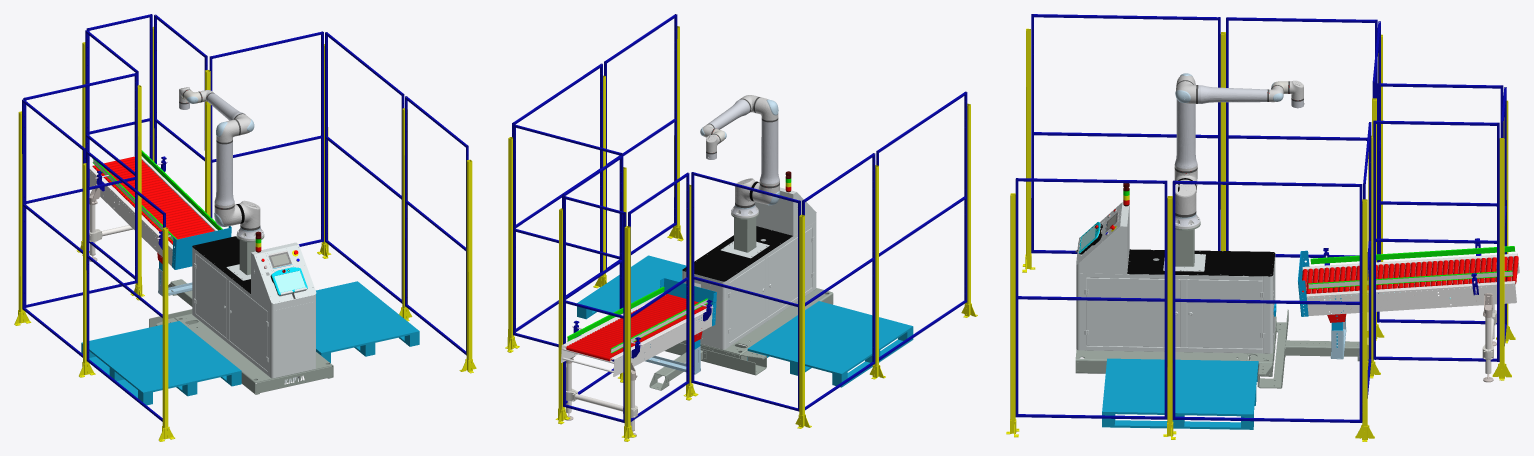
The model's file is 15-base-esteira-reta-gradil.glb.
The picture shows the model from 3 angles, left to right: view 1: azimuth 30°, elevation 25°; view 2: azimuth 150°, elevation 25°; view 3: azimuth 270°, elevation 25°; orthographic projection. The views are drawn at different scales.
Parts seen in each view (by area): view 1: world; view 2: world; view 3: world.
Boxes of the visible parts, box(x1,y1,x2,y2) form: world: box(14, 14, 476, 441); world: box(505, 14, 977, 441); world: box(1006, 14, 1519, 441).
Bounding box in the file's own units: 3.33 × 2.35 × 4.06.
